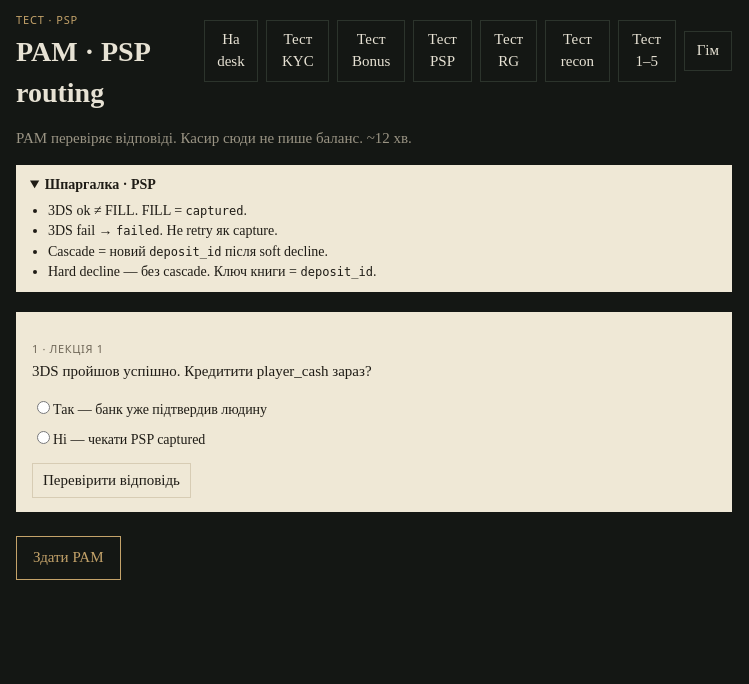
psp exam submits to PAM grade
Expected: the text "3DS пройшов успішно. Кредитити player_cash зараз?" is shown, 32,363 -> 372,379
Click the radio button labelled "Ні — чекати PSP captured": [44, 438] box 37,431 -> 50,444
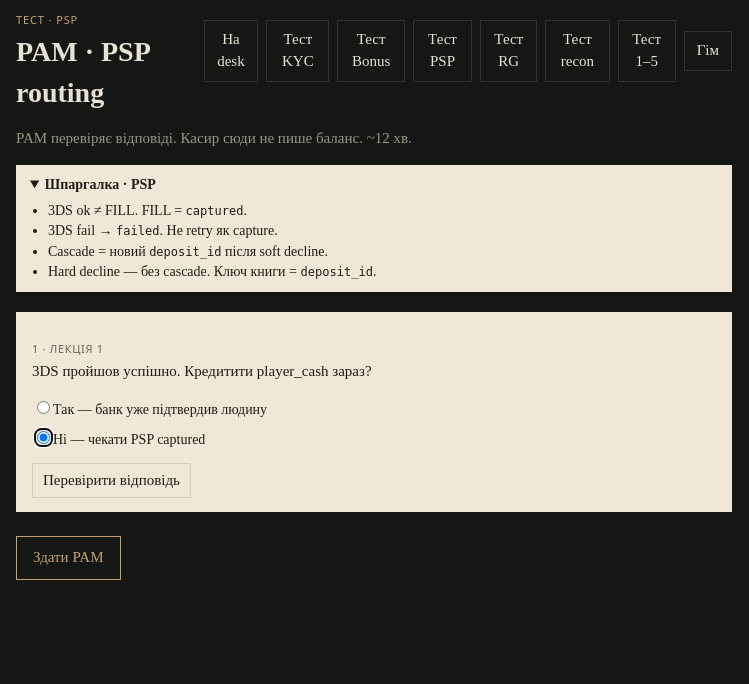
Click the button with test id "exam-submit": [68, 558] box 16,536 -> 120,580
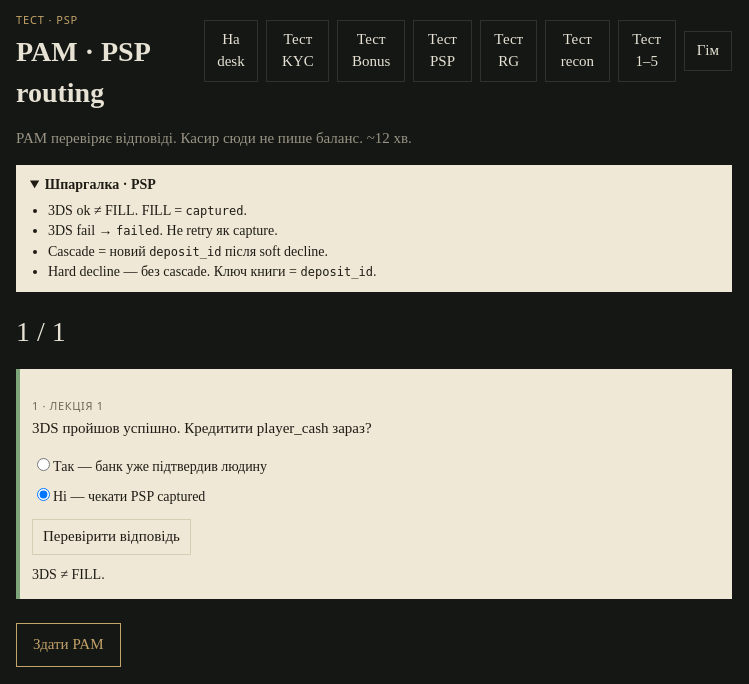
Expected: the text with test id "exam-score" reads "1 / 1", 16,316 -> 66,347
